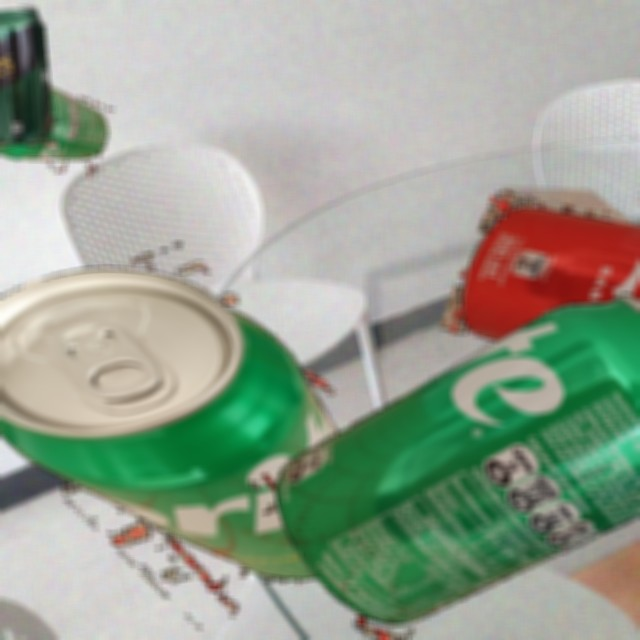coca cola: (439, 187, 640, 393)
schweppes: (0, 5, 57, 150)
sprite: (0, 138, 475, 640), (213, 247, 640, 640), (0, 66, 118, 183)
